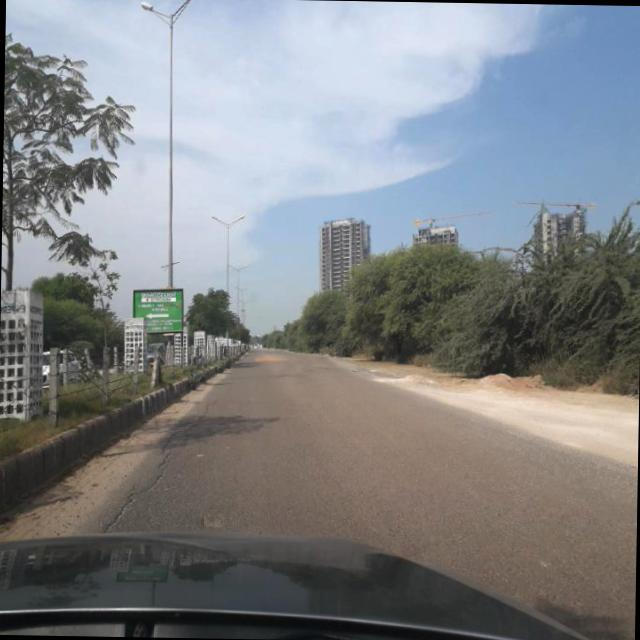pothole: (112, 377, 223, 527)
